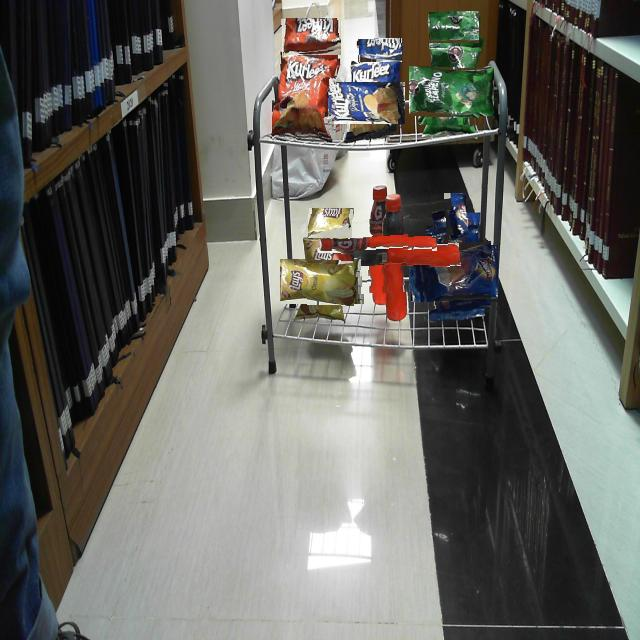Plastic: (272, 55, 338, 141), (358, 219, 433, 294), (418, 238, 491, 310), (418, 56, 485, 125), (344, 212, 410, 278), (290, 249, 354, 313), (339, 73, 398, 132), (282, 18, 342, 55), (428, 11, 479, 43), (308, 207, 353, 238), (437, 200, 473, 236), (357, 38, 402, 62)
